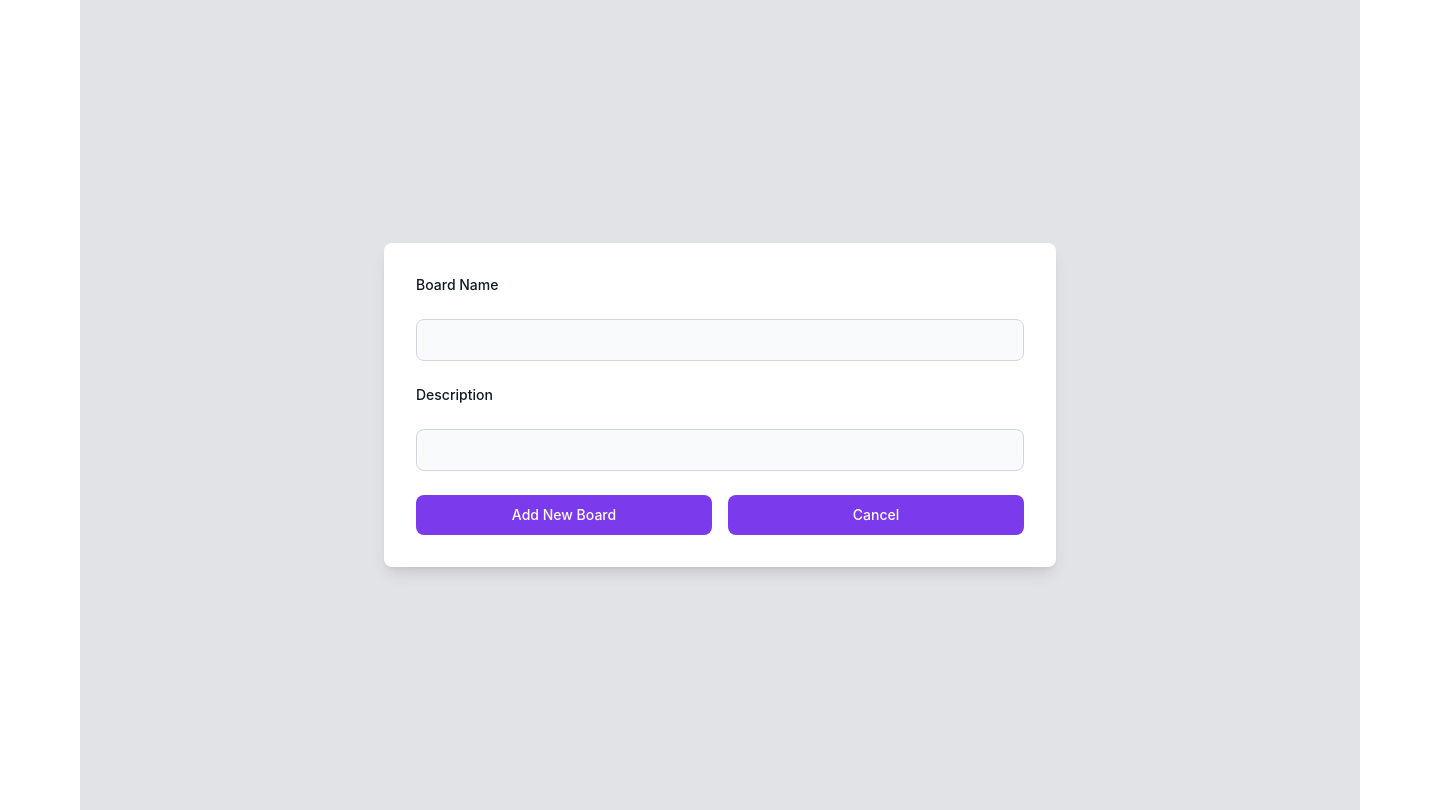
Test: BoardForm component › shows validation error when board name is empty on submit
Click the button "Add New Board" at (564, 515), box [416,495,712,535]
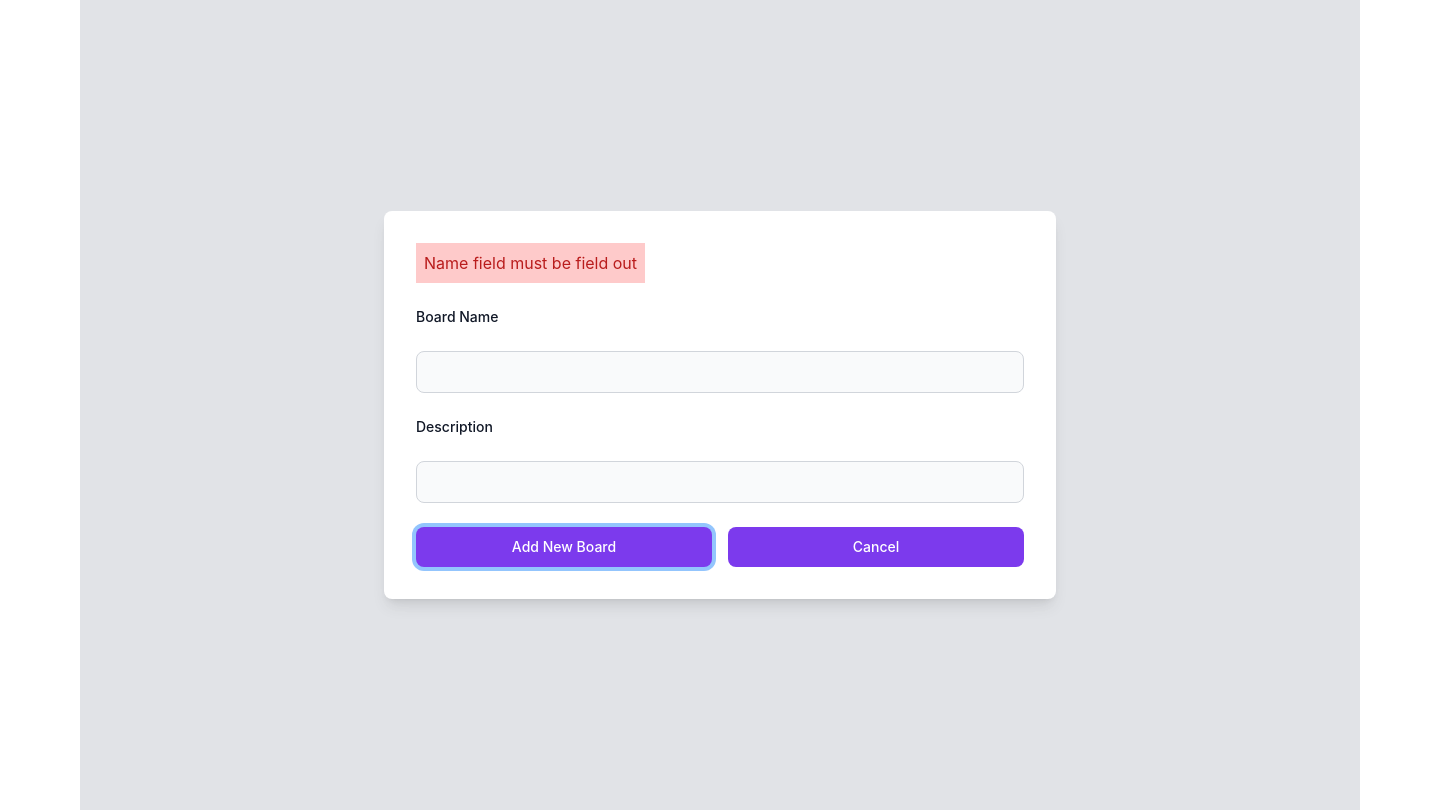
Check: the text "Name field must be field out" is shown, box [416,243,645,283]
